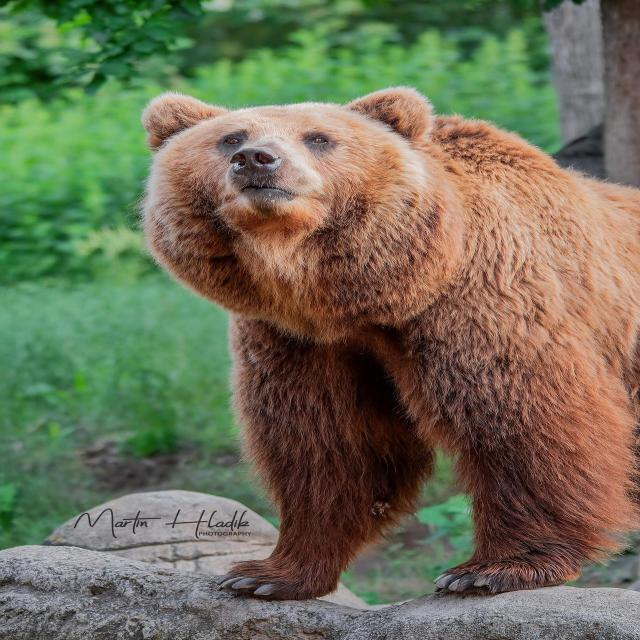Bear: (140, 87, 640, 604)
